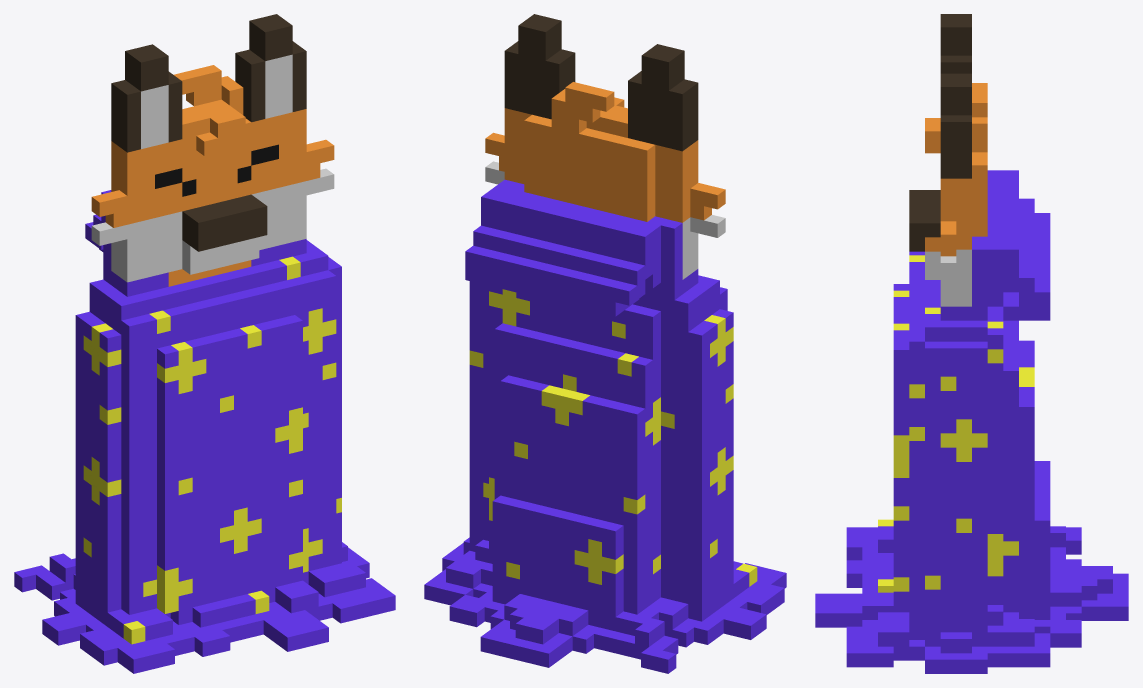
File: zorrito.glb
3 views of the same model, side by side, from view 1: azimuth 30°, elevation 25°; view 2: azimuth 150°, elevation 25°; view 3: azimuth 270°, elevation 25° (orthographic).
Visible parts, largest first — view 1: Node1; view 2: Node1; view 3: Node1.
Part boxes in pixels (x1,y1,x2,y2): Node1: (14, 14, 395, 673); Node1: (424, 14, 786, 673); Node1: (815, 14, 1128, 673).
Size of the model in its own units: 2.2 by 3.9 by 2.
1 material, 1 textured.
